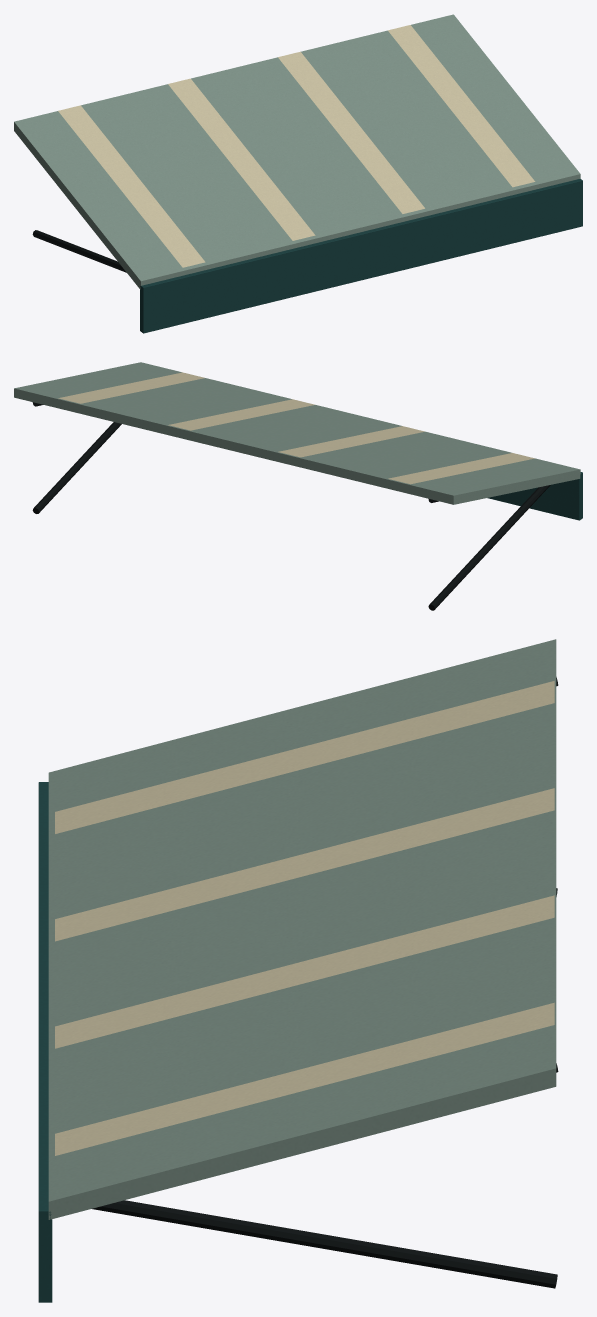
File: striped_awning_2m.glb
3 views of the same model, one above another, from view 1: azimuth 30°, elevation 25°; view 2: azimuth 150°, elevation 25°; view 3: azimuth 270°, elevation 25° (orthographic). The views are drawn at different scales.
Parts seen in each view (by area): view 1: striped_awning_2m; view 2: striped_awning_2m; view 3: striped_awning_2m.
Part boxes in pixels (x1,y1,x2,y2): striped_awning_2m: (14, 14, 582, 333); striped_awning_2m: (14, 362, 582, 610); striped_awning_2m: (38, 639, 558, 1302).
Size of the model in its own units: 2 by 0.5267 by 1.02.
4 materials, 4 textured.
